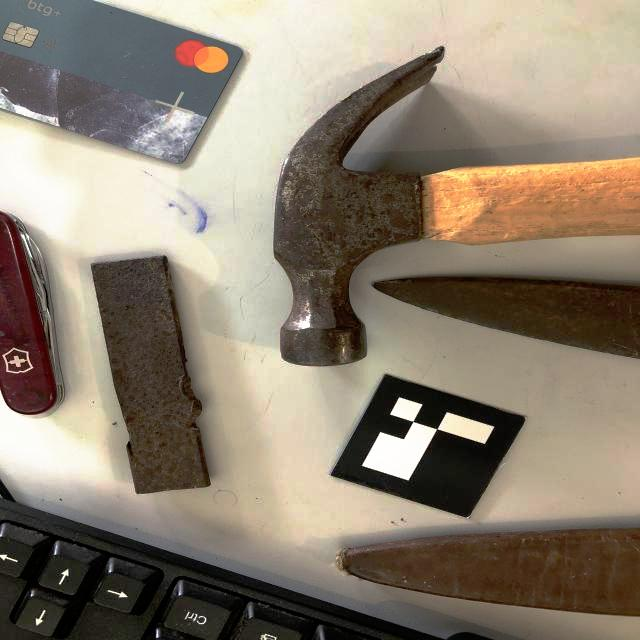Corrosion: (273, 46, 446, 367), (91, 255, 211, 494), (371, 277, 640, 359)
